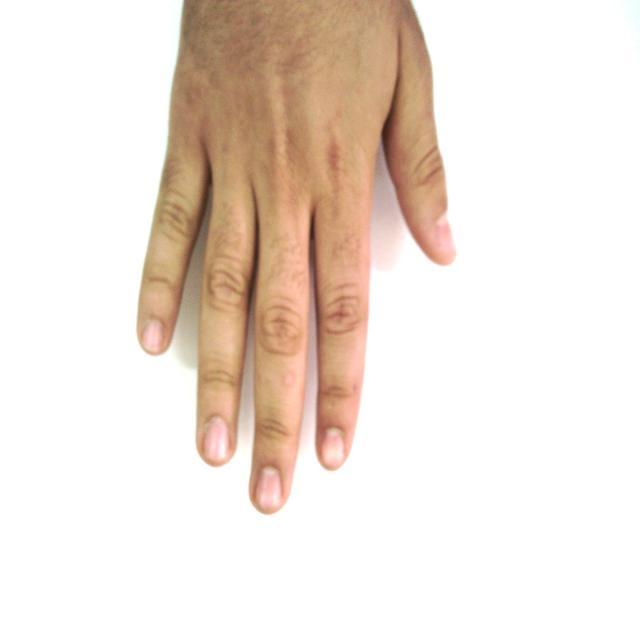Fingernail: (204, 418, 229, 462), (258, 467, 282, 512), (322, 428, 344, 467), (437, 219, 456, 258), (143, 322, 164, 352)
